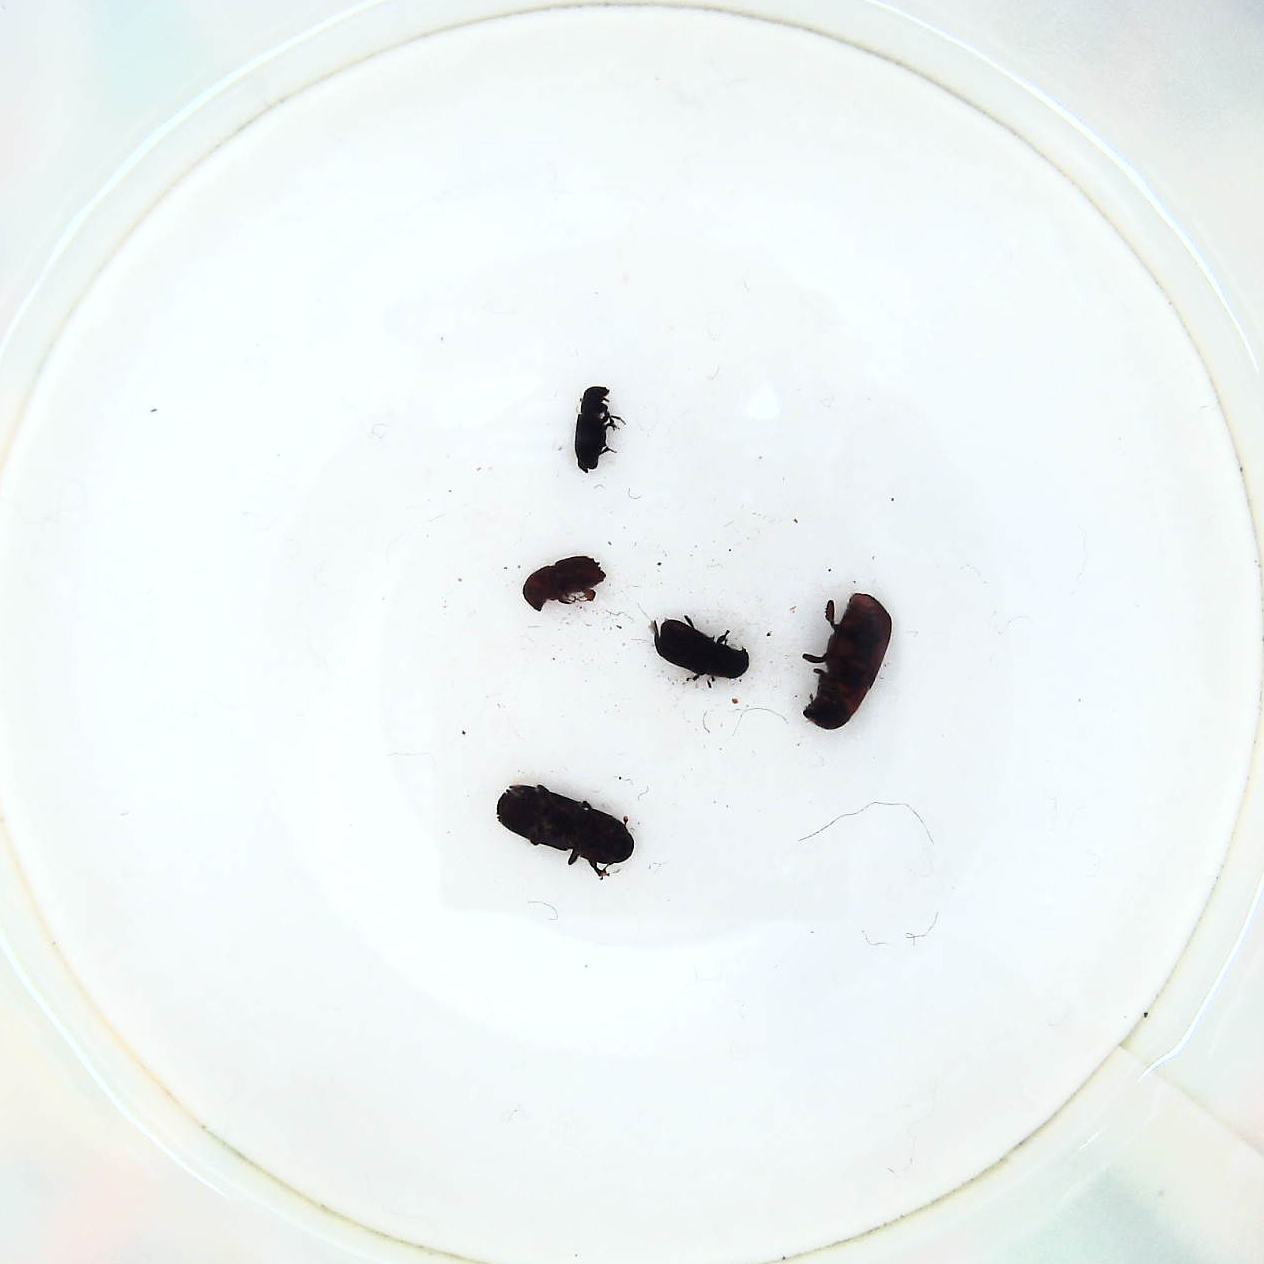Boerner: (488, 778, 639, 883)
Leconte: (800, 585, 898, 727)
armandi: (649, 612, 754, 693)
coleoptera: (573, 379, 630, 476)
linnaeus: (517, 554, 615, 612)
